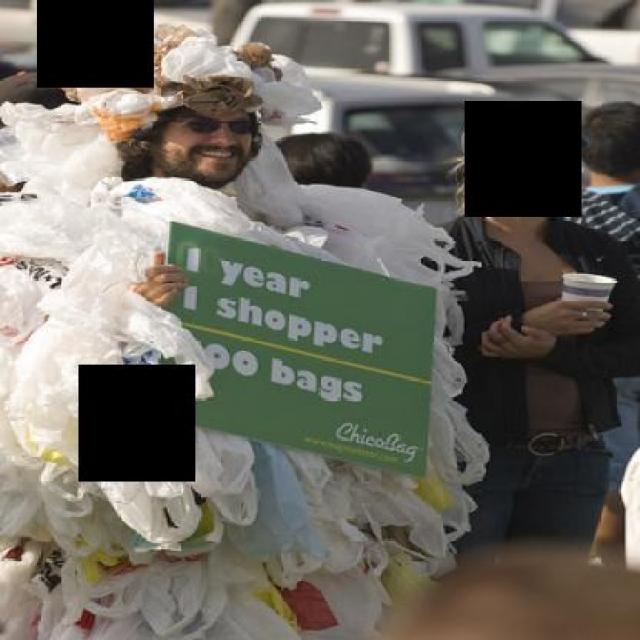plastic bag: (0, 18, 489, 637)
